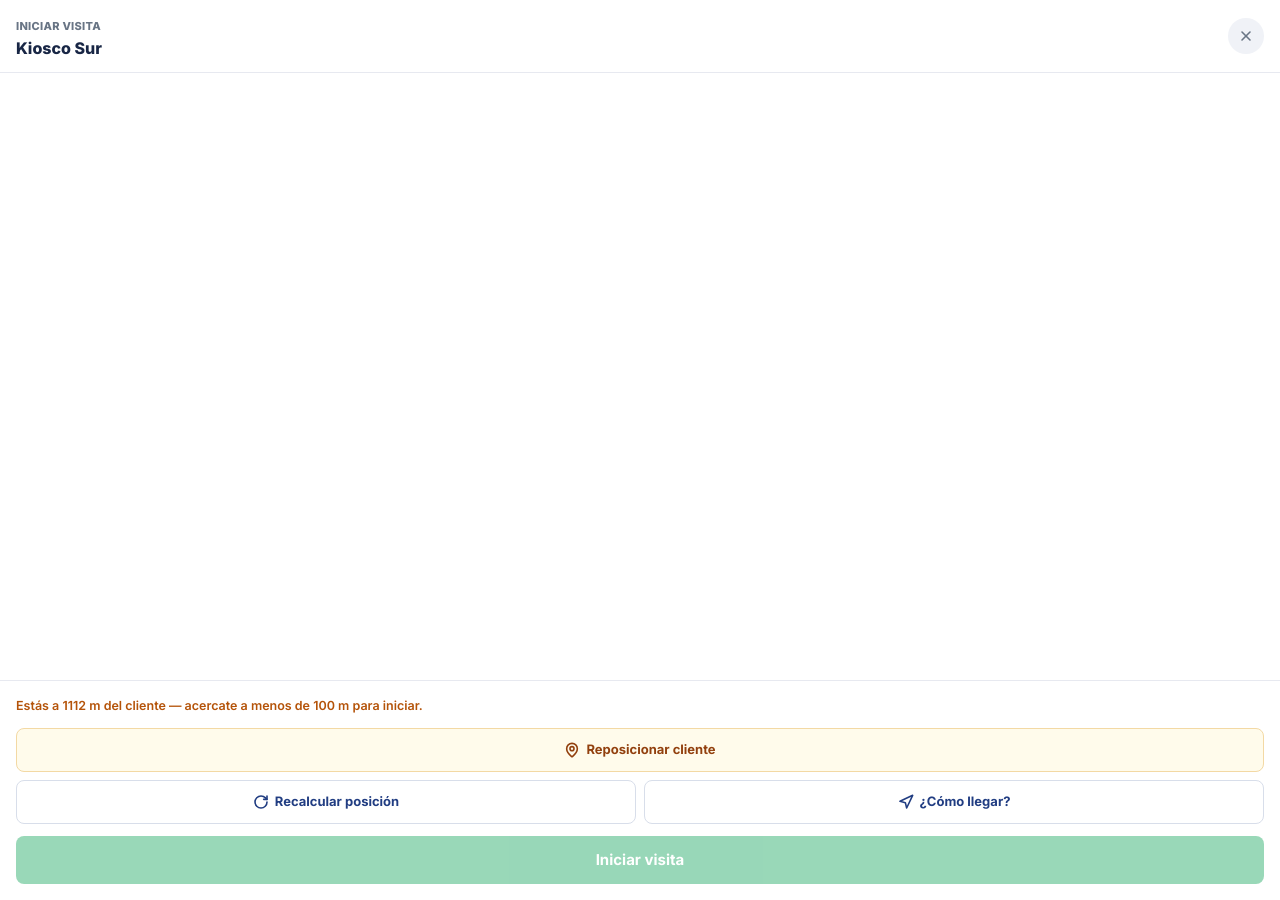
Test: un fix grueso posterior del watch no pisa el recálculo fino que pidió el vendedor
Expected: the text "Estás a 1112 m" is shown, [16,698,423,713]
Click the button "Recalcular posición". click: (326, 802)
box: [16,780,636,824]
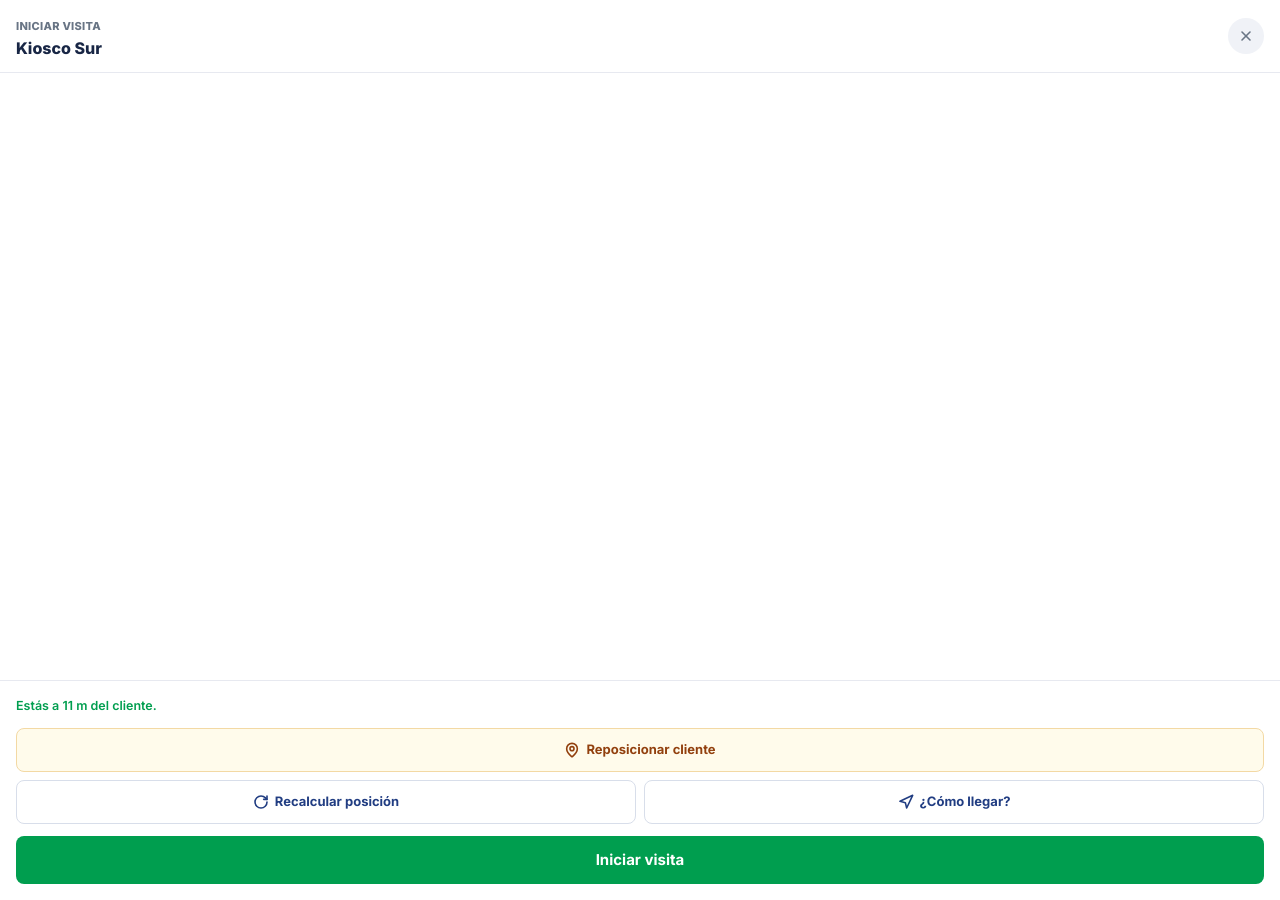
Expected: the text "Estás a 11 m del cliente." is shown, [16,698,157,713]
Expected: the text "Estás a 1112 m" is gone
